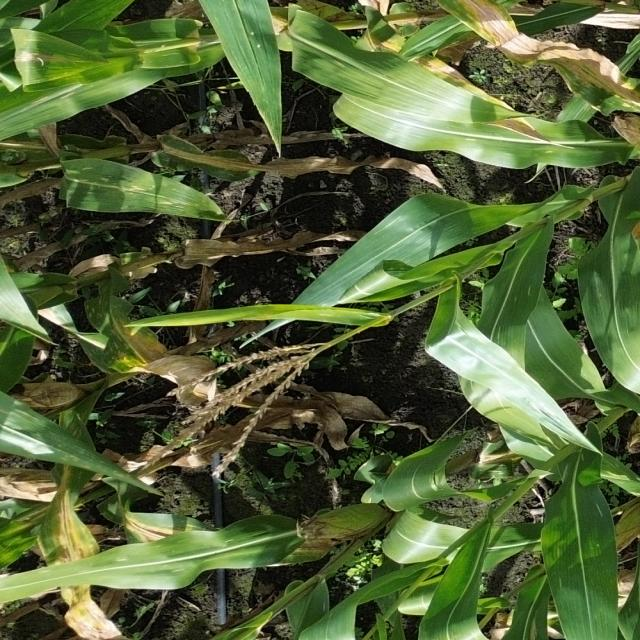gray-leaf-spot: (80, 281, 194, 401), (0, 390, 134, 492), (407, 271, 540, 366), (78, 162, 234, 237), (587, 276, 640, 371)
northern-leaf-blight: (42, 434, 201, 640), (9, 31, 106, 99)
southern-leaf-blight: (554, 529, 640, 622)
